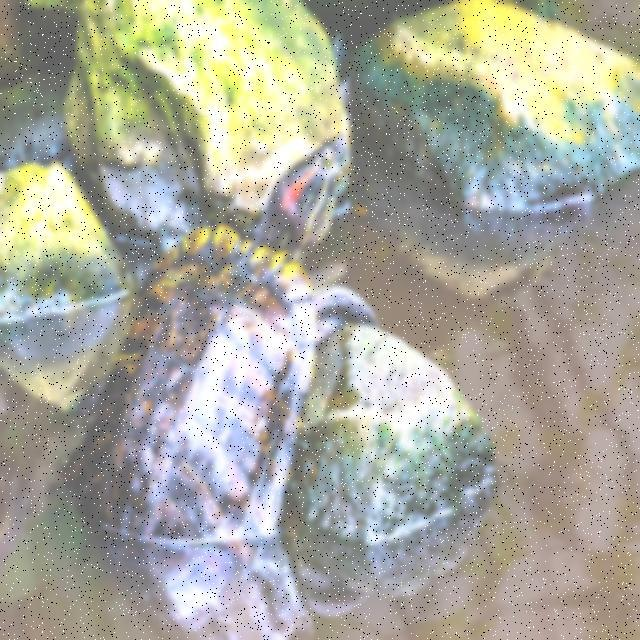tortoise: (91, 126, 345, 560)
